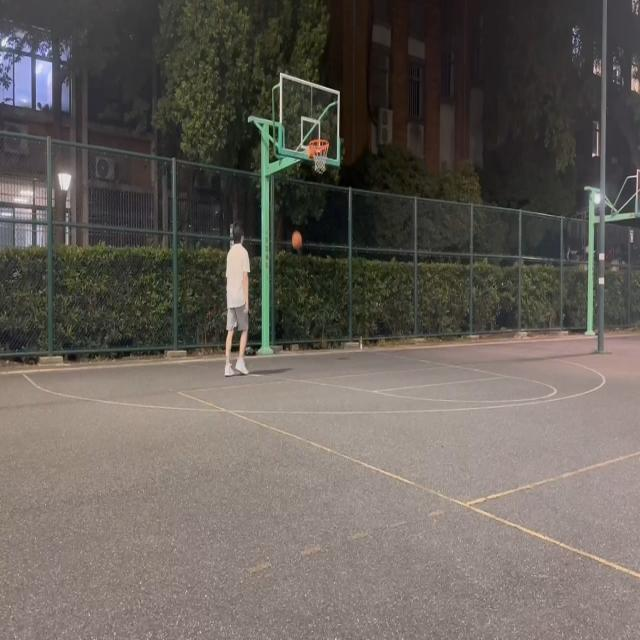basketball: (310, 139, 329, 174)
rim: (292, 230, 302, 250)
